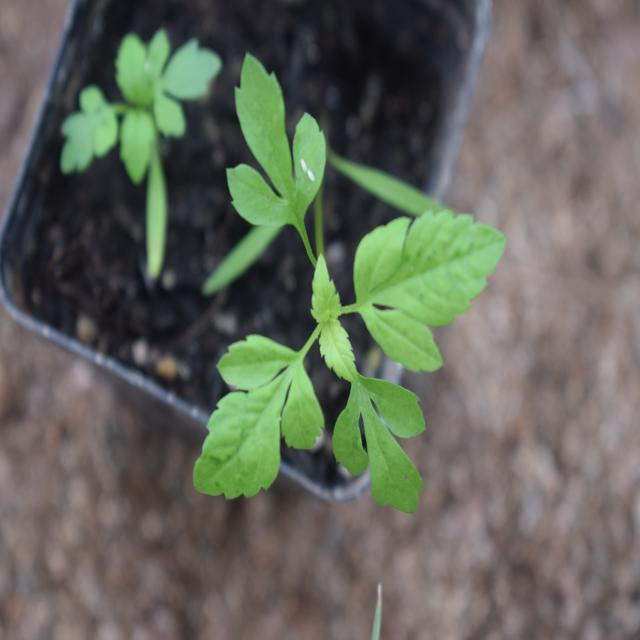Bidens pilosa: (189, 41, 506, 521)
